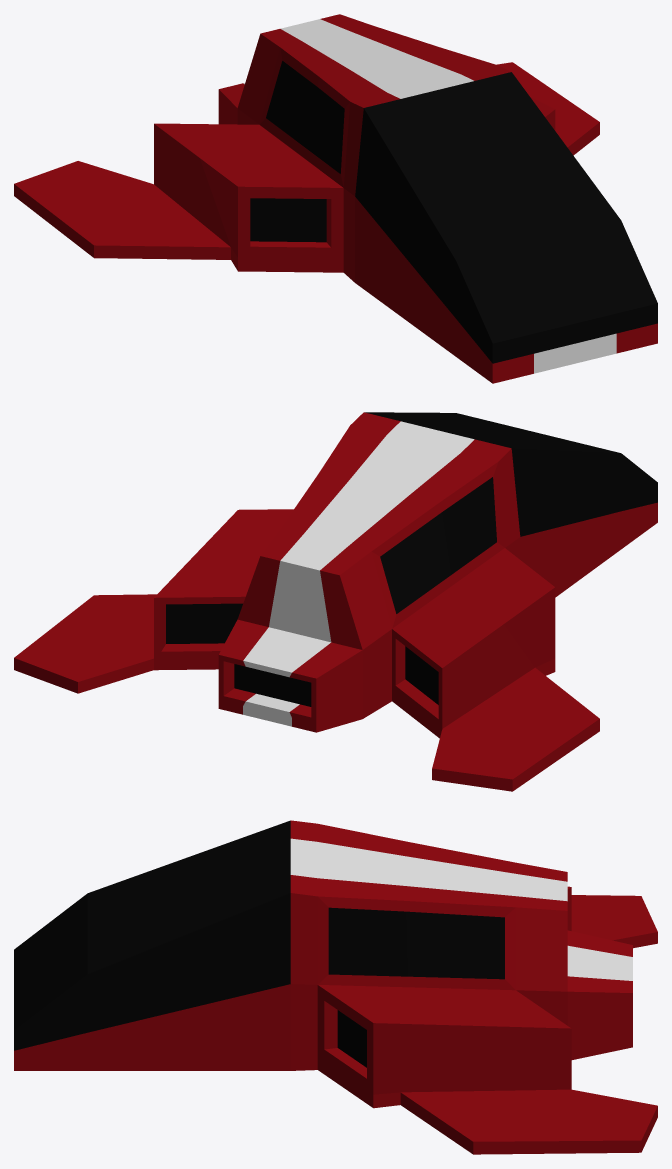
File: Spaceship.fbx
3 views of the same model, one above another, from view 1: azimuth 30°, elevation 25°; view 2: azimuth 150°, elevation 25°; view 3: azimuth 270°, elevation 25° (orthographic).
Visible parts, largest first — view 1: Cube; view 2: Cube; view 3: Cube.
Part boxes in pixels (bbox=[...]): Cube: bbox=[14, 14, 657, 383]; Cube: bbox=[14, 412, 657, 791]; Cube: bbox=[14, 820, 657, 1154].
Size of the model in its own units: 612 by 200 by 672.
